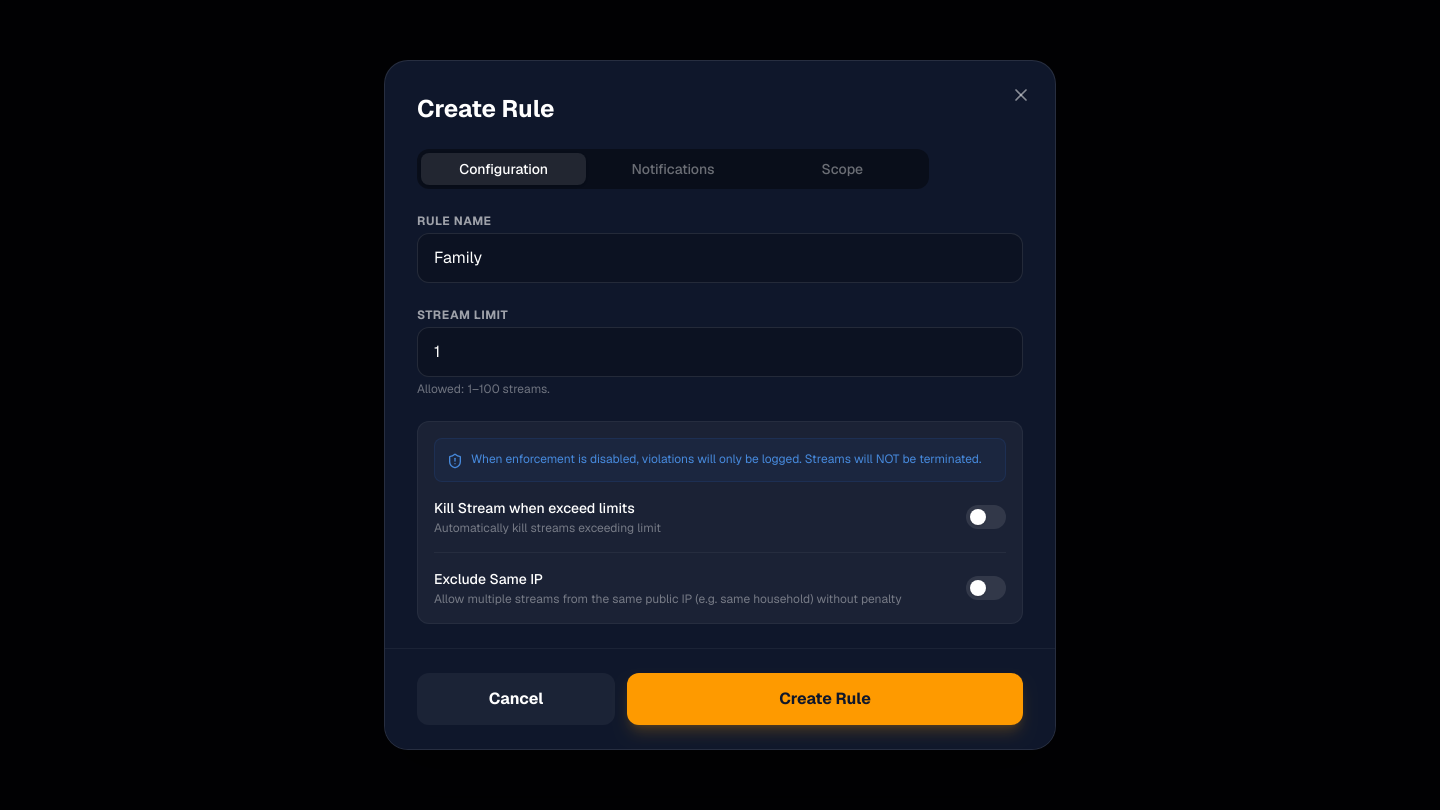
Test: RuleModal validation › lets the limit be cleared and rejects it rather than coercing to 1
Step 1. Clear the number field labelled "Stream Limit" → (720, 352), box [417,327,1023,377]
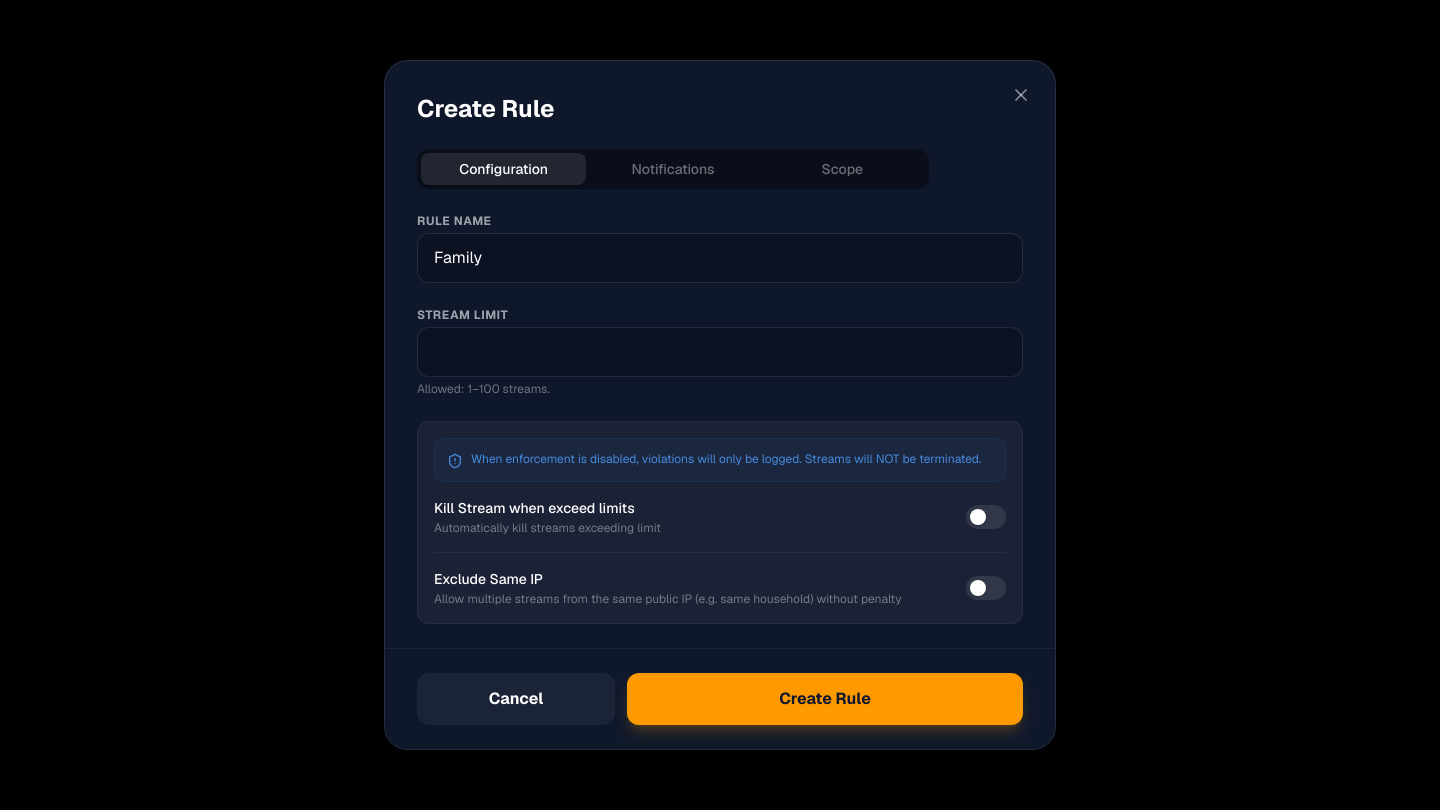
Step 2. Click the button "Create Rule" → (825, 699), box [627,673,1023,725]
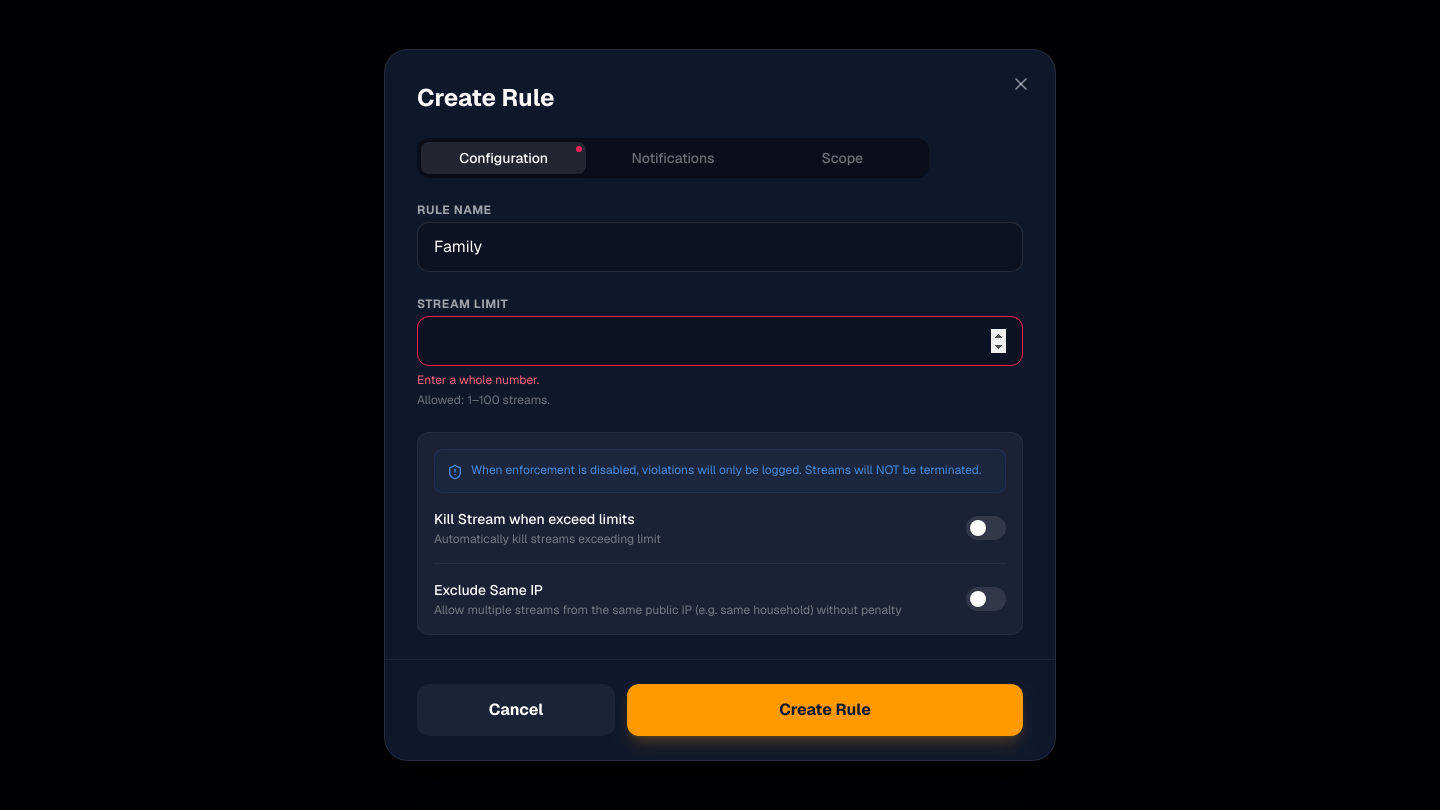
Expected: the text "Enter a whole number." is shown, [417,372,539,388]
